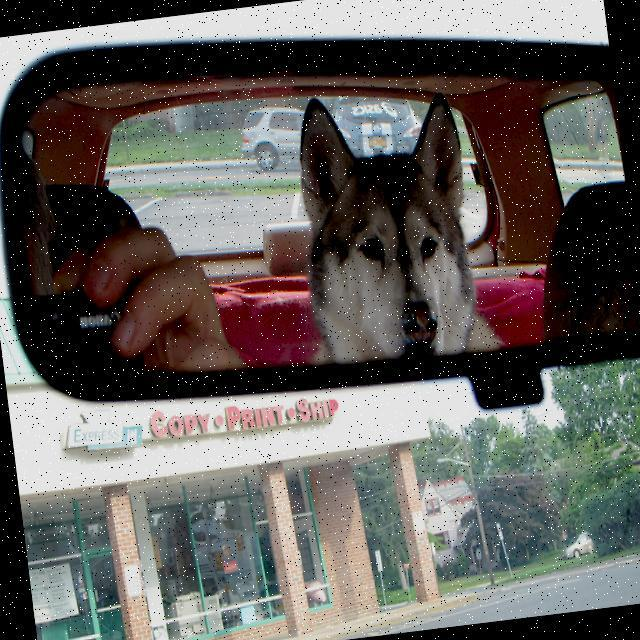fire_hydrant: (588, 544, 592, 554)
